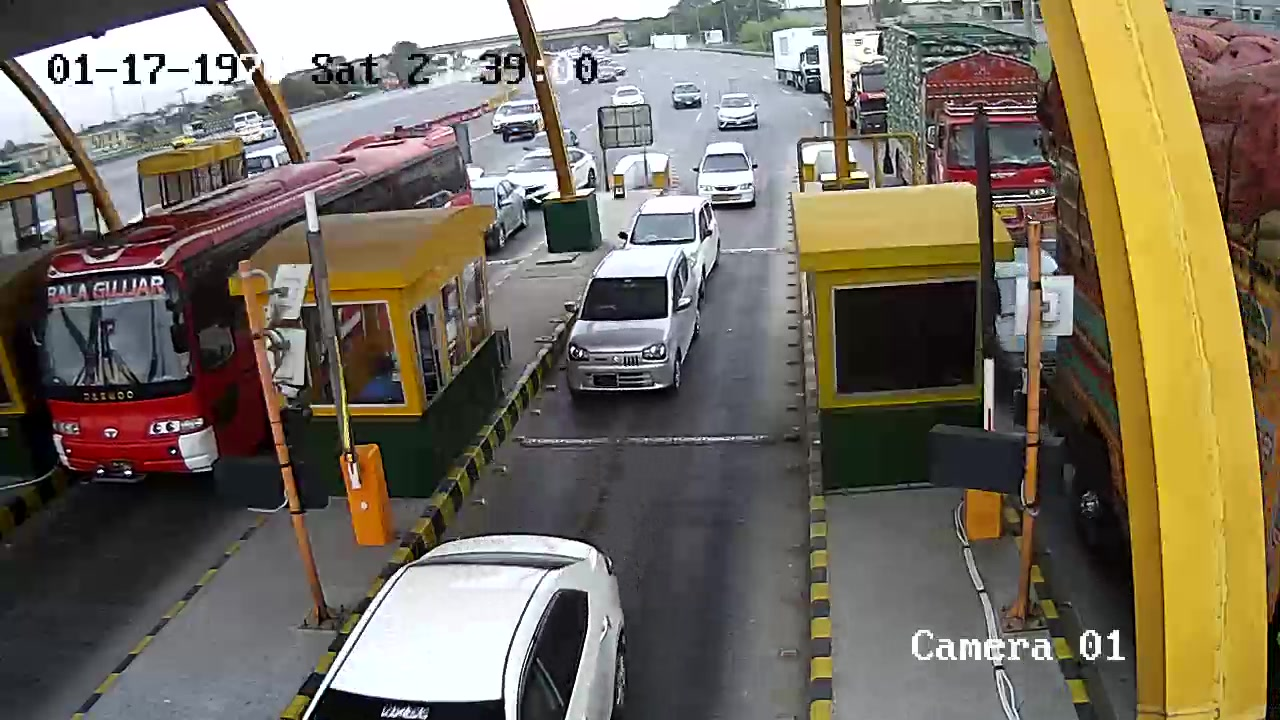F1: (542, 246, 716, 418)
